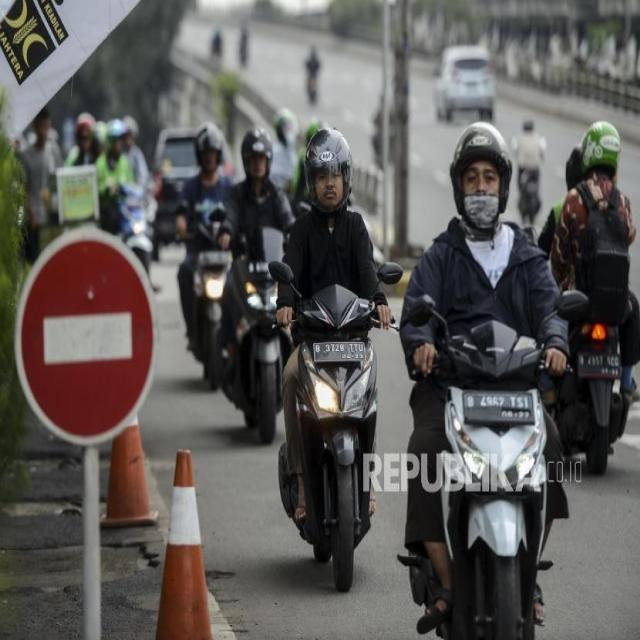Helmet: (450, 122, 511, 217), (304, 128, 351, 210), (581, 121, 620, 174), (241, 127, 272, 175), (194, 122, 223, 164), (274, 108, 298, 146), (565, 146, 582, 190), (305, 117, 322, 147), (75, 112, 95, 136), (107, 119, 126, 140), (93, 121, 107, 146), (123, 115, 138, 138), (523, 119, 534, 131)
Number Plate: (463, 391, 534, 424), (577, 352, 620, 378), (313, 342, 365, 362), (198, 251, 229, 265)
Rearview Mirror: (555, 290, 590, 323), (409, 294, 435, 325), (268, 261, 293, 284), (377, 262, 403, 284), (209, 206, 225, 223)
